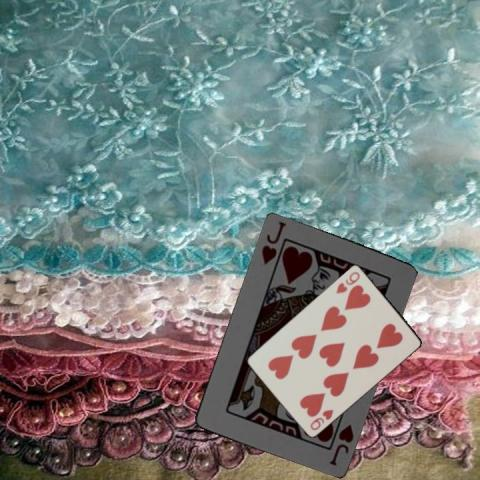9h: (334, 268, 362, 295), (307, 406, 335, 431)
Jh: (258, 217, 287, 266), (326, 420, 355, 466)
